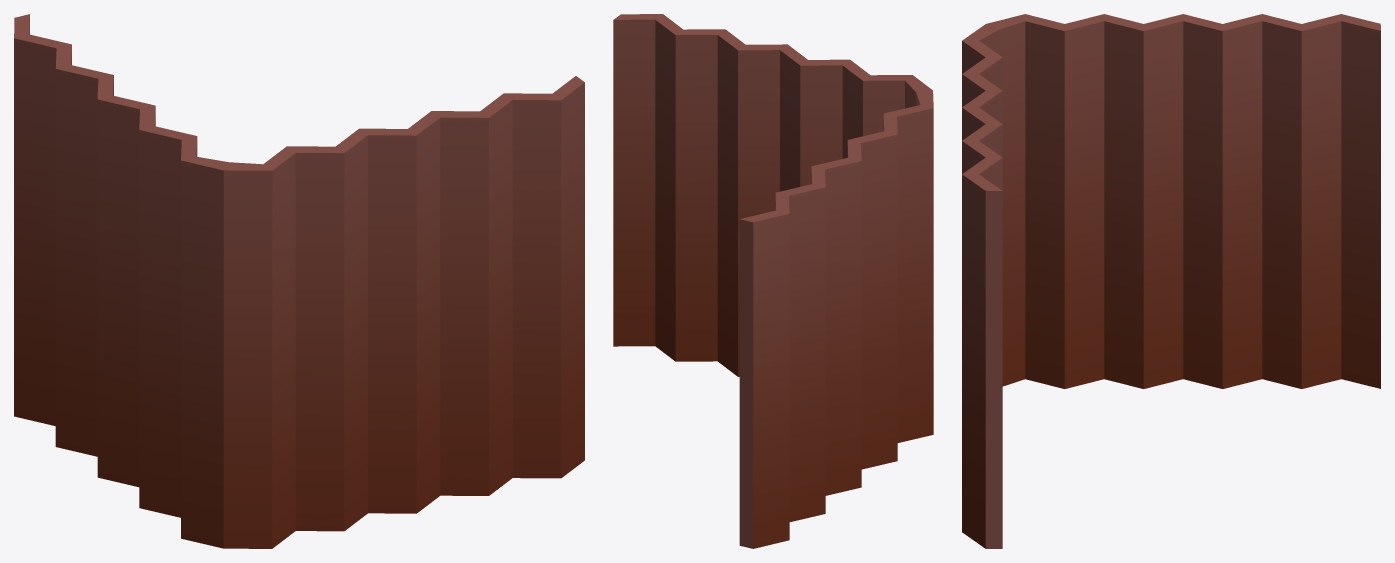
File: Environment_RifledCorner_01.fbx
The picture shows the model from 3 angles, left to right: view 1: azimuth 30°, elevation 25°; view 2: azimuth 150°, elevation 25°; view 3: azimuth 270°, elevation 25°; orthographic projection. The views are drawn at different scales.
Parts seen in each view (by area): view 1: Environment_RifledCorner_01; view 2: Environment_RifledCorner_01; view 3: Environment_RifledCorner_01.
Part boxes in pixels (x1=…): Environment_RifledCorner_01: x1=14, y1=14, x2=584, y2=548; Environment_RifledCorner_01: x1=613, y1=14, x2=933, y2=548; Environment_RifledCorner_01: x1=962, y1=14, x2=1380, y2=548.
Bounding box in the file's own units: 212 × 200 × 212.
